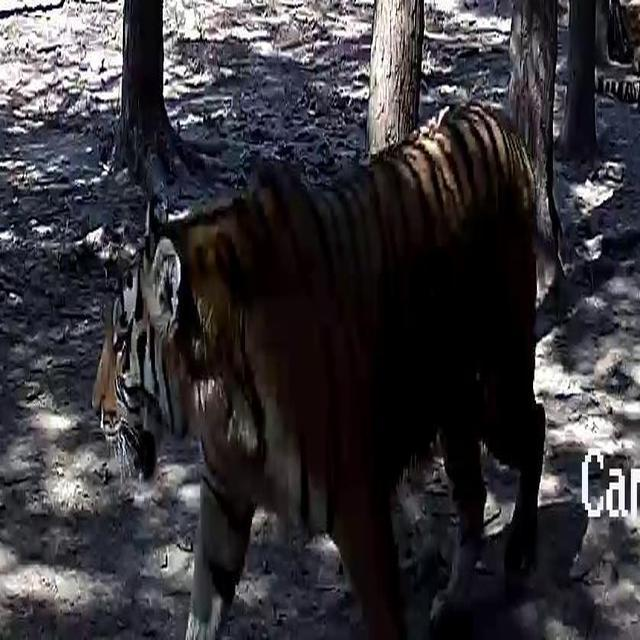tiger: (78, 90, 576, 640), (551, 0, 640, 153)
